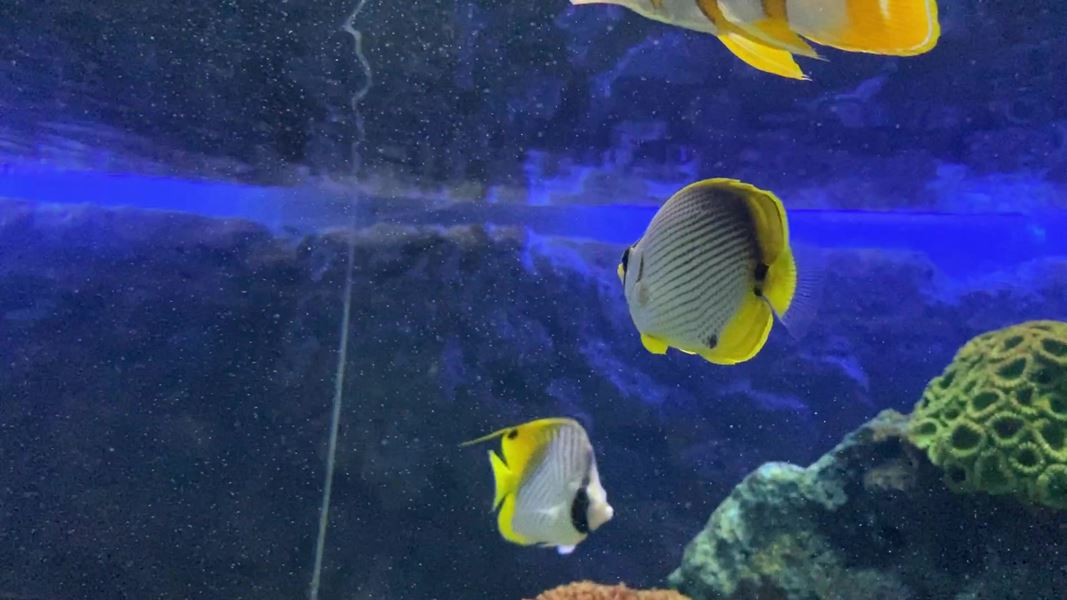Black-backed butterflyfish: (609, 165, 843, 380)
